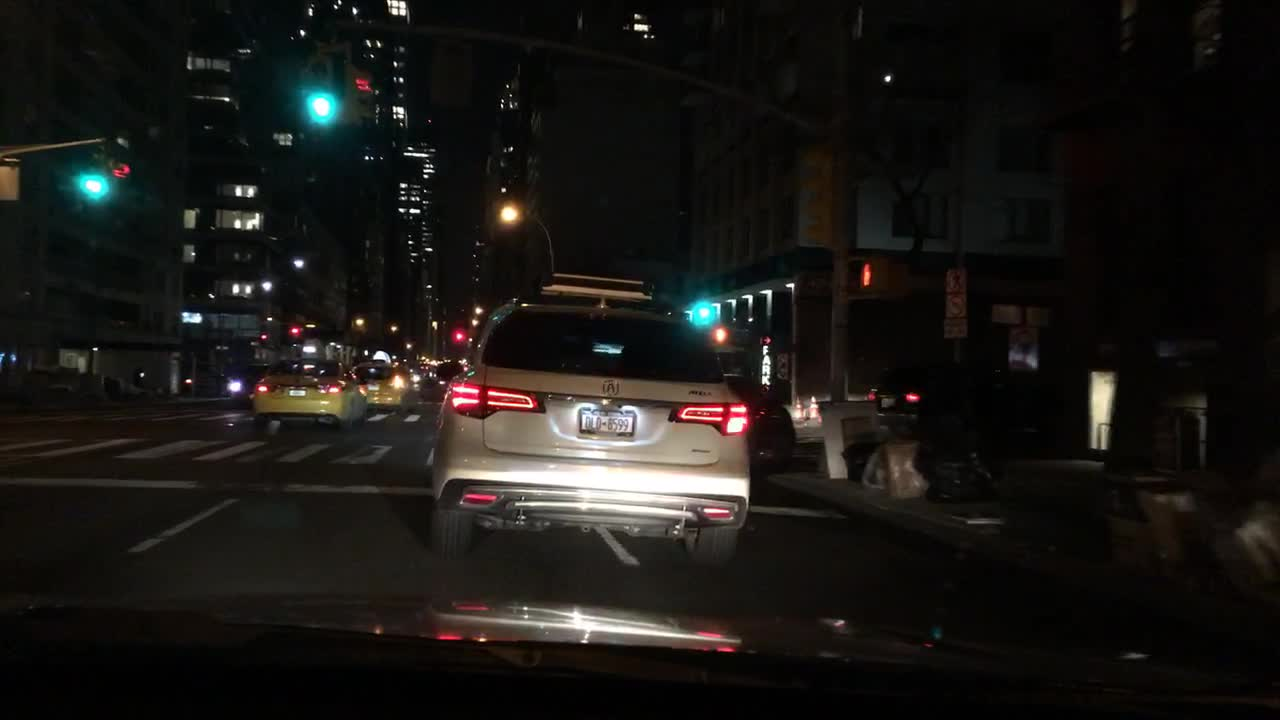car: (425, 270, 755, 571), (251, 355, 371, 431), (722, 371, 797, 475), (867, 357, 957, 433), (348, 351, 418, 414), (226, 362, 269, 403), (404, 359, 432, 397)
traffic light: (346, 51, 373, 125), (308, 62, 331, 127), (852, 249, 881, 300), (112, 140, 131, 187), (85, 159, 103, 205), (890, 260, 908, 301), (692, 299, 712, 327), (451, 323, 466, 348), (288, 324, 301, 342), (716, 326, 727, 347), (100, 155, 101, 163)
traffic sign: (946, 296, 969, 315), (778, 354, 790, 384), (949, 268, 966, 289), (941, 321, 964, 336), (758, 334, 773, 345)
